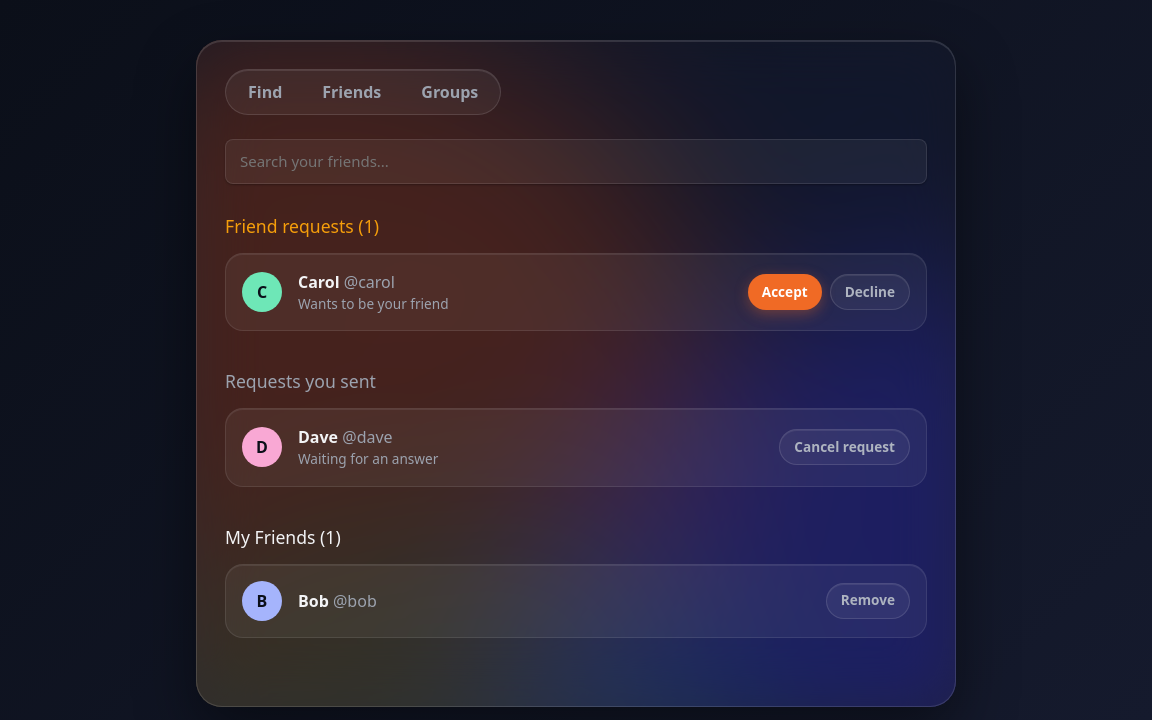
a received request can be declined
The image size is (1152, 720).
Click the button with aria-label "Decline Carol's request".
click(870, 292)  # box [830,274,910,310]
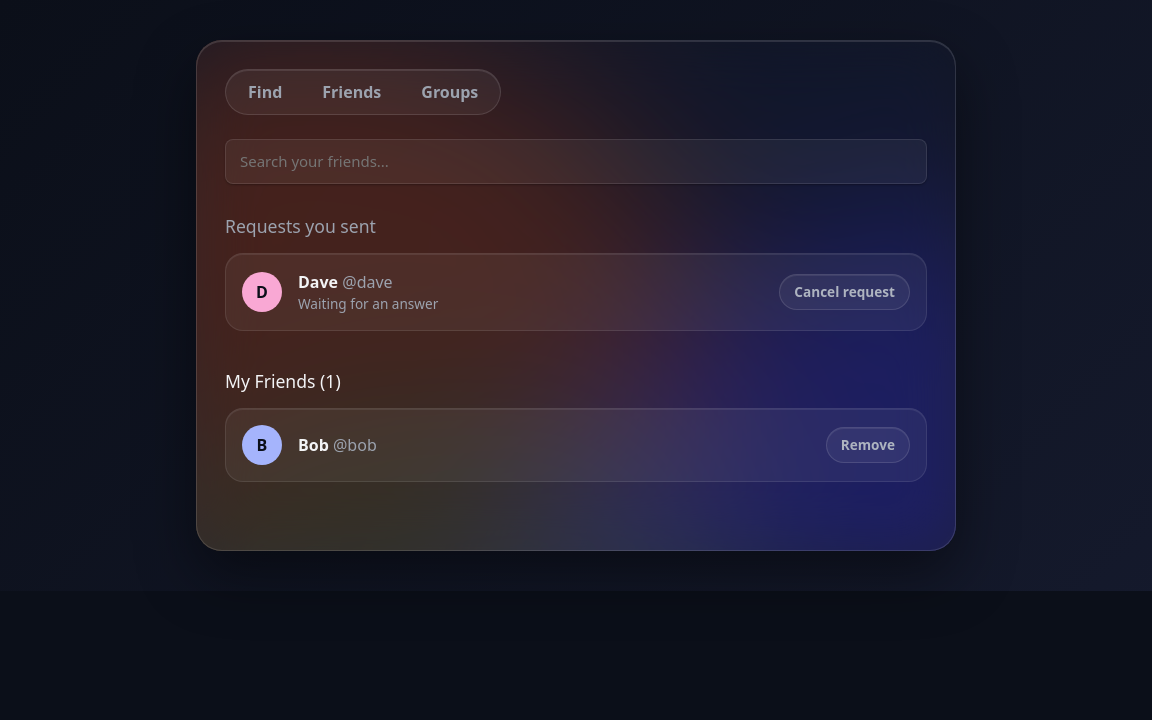
Result: the text "Wants to be your friend" is gone
